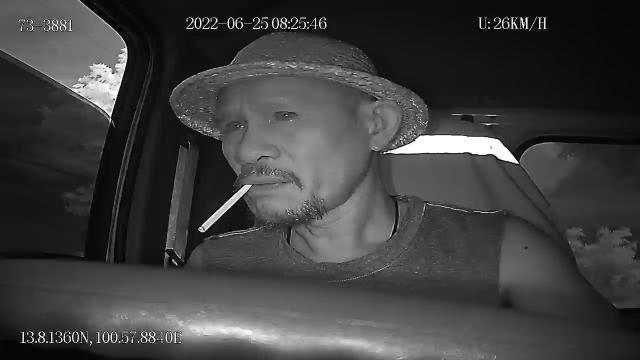SafeDriving: (265, 102, 303, 126), (222, 114, 252, 138)
Smoking: (198, 182, 252, 234)
